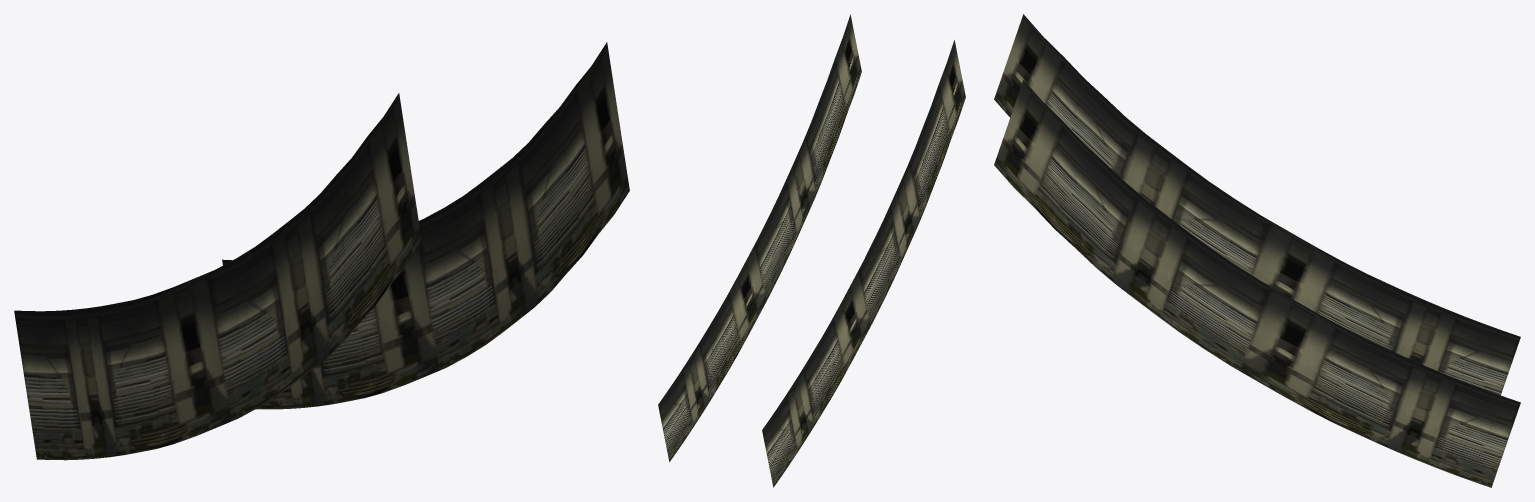
The model's file is PresidiumRing_capside.FBX.
3 views of the same model, side by side, from view 1: azimuth 30°, elevation 25°; view 2: azimuth 150°, elevation 25°; view 3: azimuth 270°, elevation 25° (orthographic). The views are drawn at different scales.
Visible parts, largest first — view 1: PresidiumRing_capside; view 2: PresidiumRing_capside; view 3: PresidiumRing_capside.
Boxes of the visible parts, bbox=[...] form: PresidiumRing_capside: bbox=[14, 42, 629, 460]; PresidiumRing_capside: bbox=[658, 14, 965, 487]; PresidiumRing_capside: bbox=[994, 14, 1520, 487].
Bounding box in the file's own units: 422 × 1226 × 1434.
